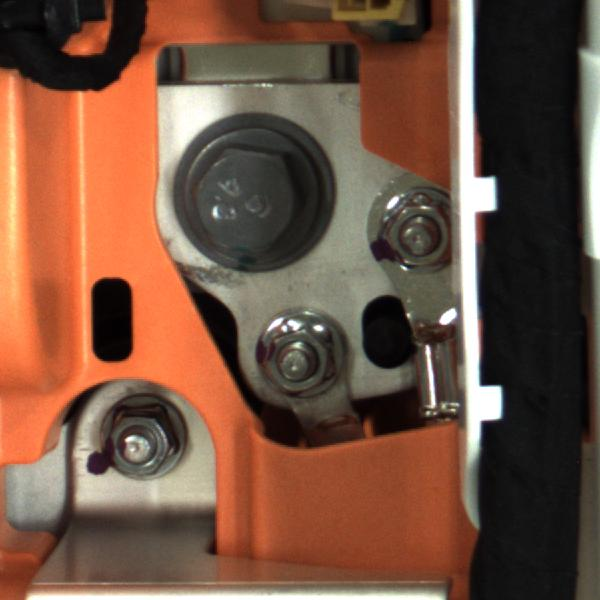nut_b: (165, 111, 340, 283)
screw_s: (249, 311, 361, 405), (368, 174, 461, 285), (84, 400, 190, 482)
